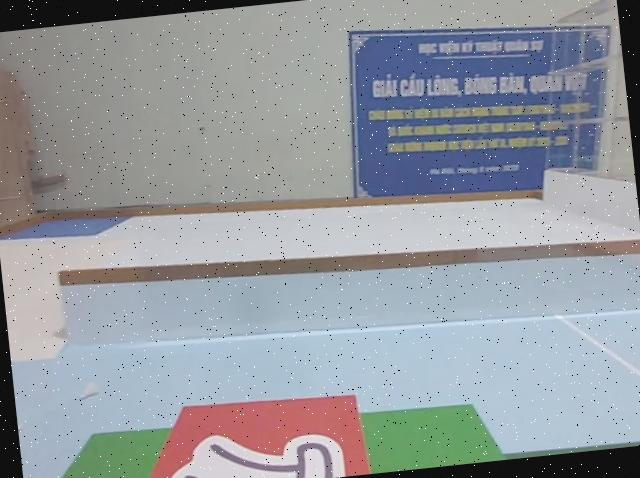R2 Fake: (116, 383, 372, 478)
